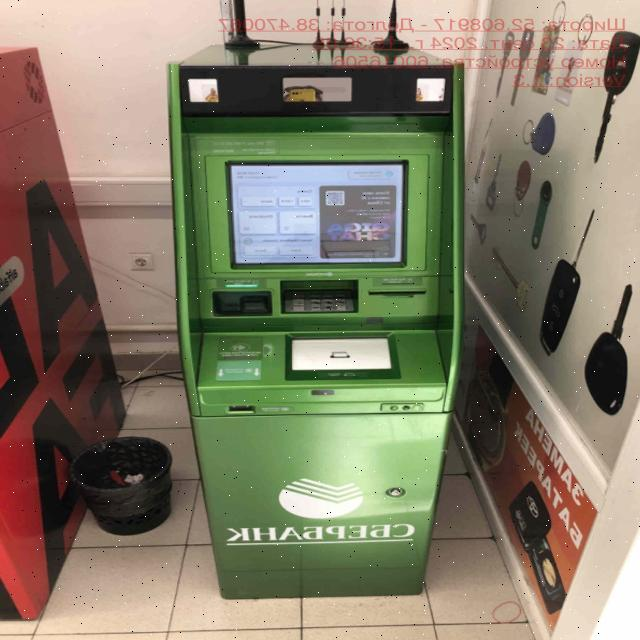bank: (169, 33, 465, 600)
